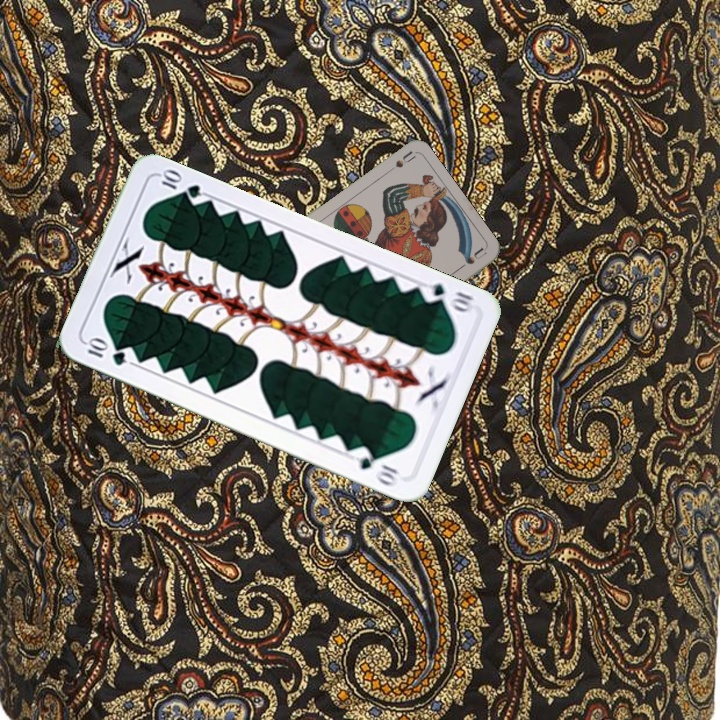G10: (417, 278, 476, 315), (81, 335, 129, 369)
SU: (380, 147, 417, 178)
